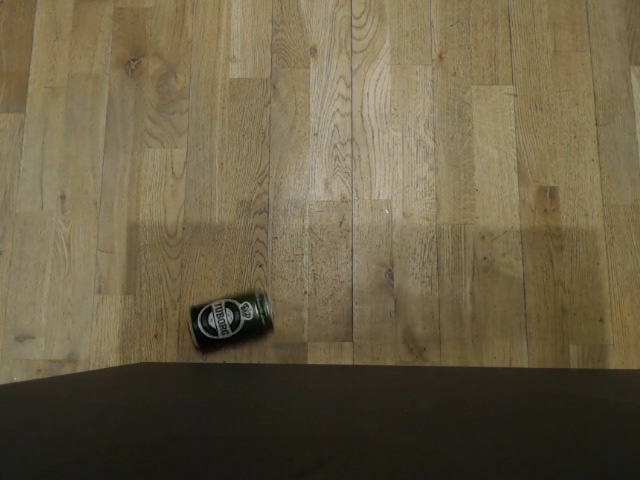beer: (181, 284, 278, 359)
